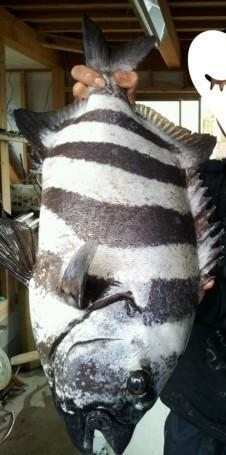fish: (0, 16, 225, 454)
